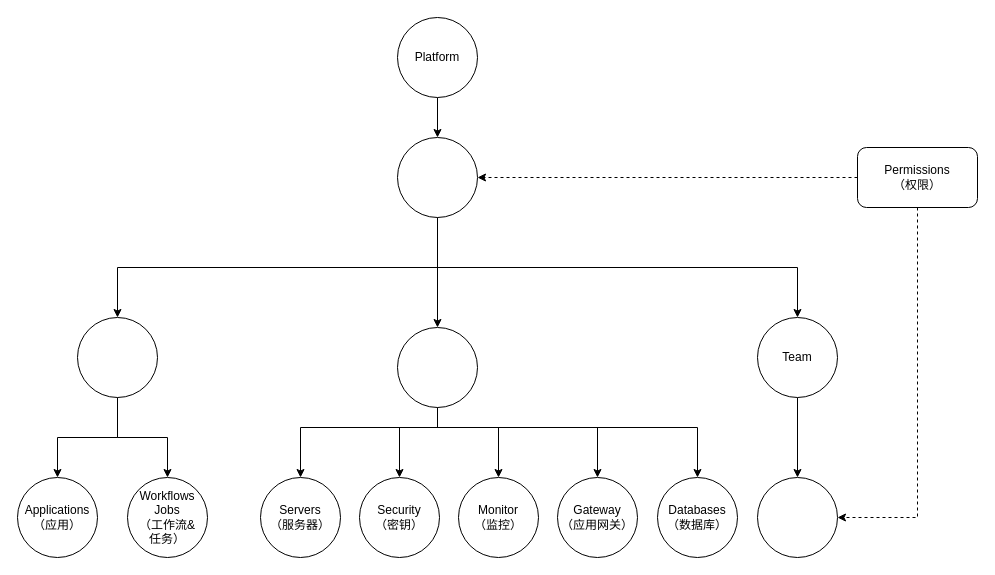
This 995x575 diagram has some shape labels left out. Each missing label, with the centre of its shape:
"Project" goes at point (437, 177).
"Resources" goes at point (437, 367).
"Users （用户）" goes at point (797, 517).
"Workload" goes at point (117, 357).
